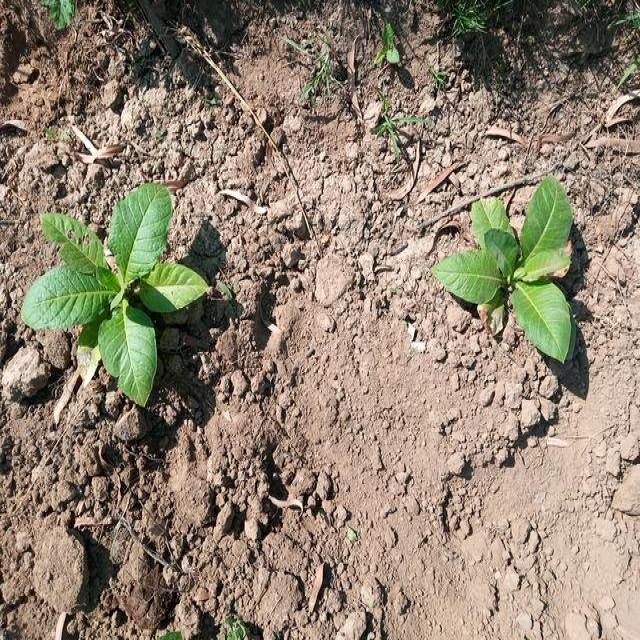crop: (19, 180, 210, 408), (442, 180, 586, 370)
